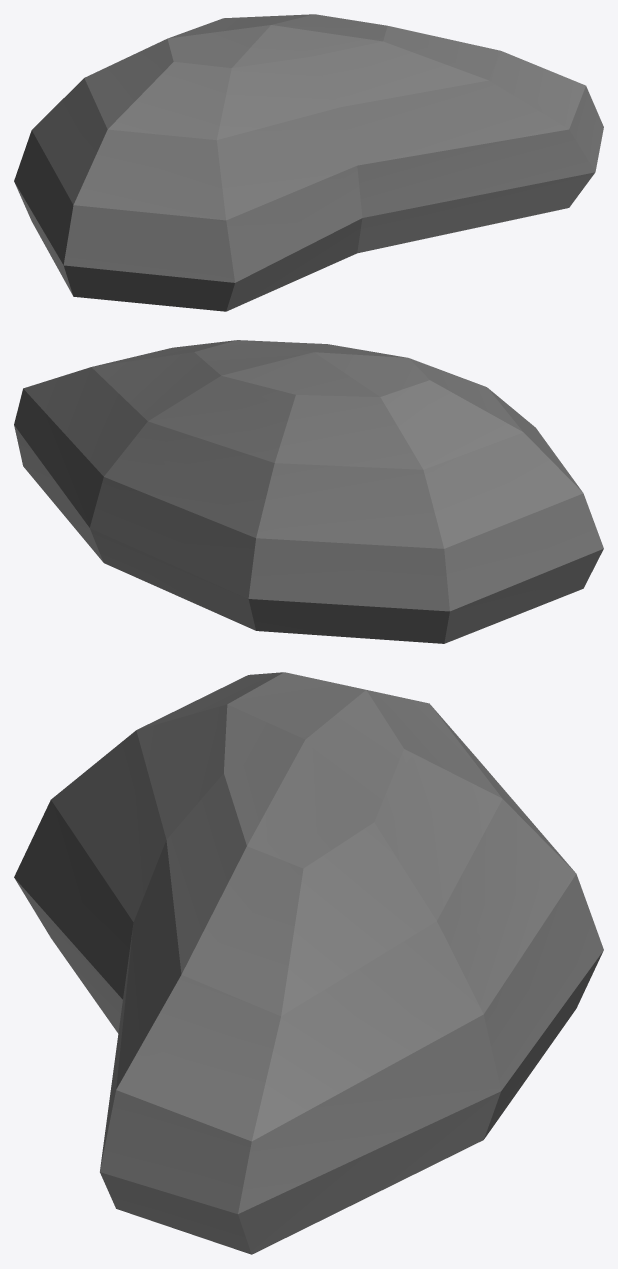
File: PROP_021_Rock(Var2).fbx
3 views of the same model, one above another, from view 1: azimuth 30°, elevation 25°; view 2: azimuth 150°, elevation 25°; view 3: azimuth 270°, elevation 25° (orthographic). The views are drawn at different scales.
Visible parts, largest first — view 1: PROP_021_Rock(Var2); view 2: PROP_021_Rock(Var2); view 3: PROP_021_Rock(Var2).
Part boxes in pixels (<box>): PROP_021_Rock(Var2): <box>14,14,603,311</box>; PROP_021_Rock(Var2): <box>14,340,603,643</box>; PROP_021_Rock(Var2): <box>14,672,603,1254</box>.
Size of the model in its own units: 14.88 by 5.79 by 9.07.
